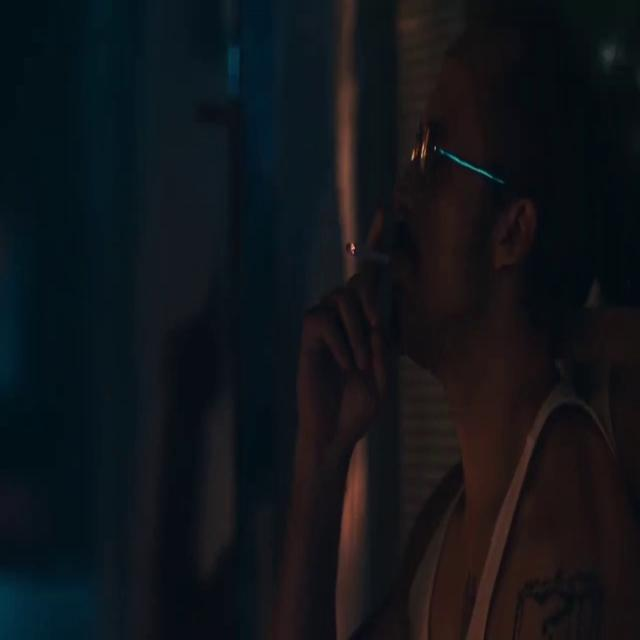Smooking: (342, 228, 392, 266)
